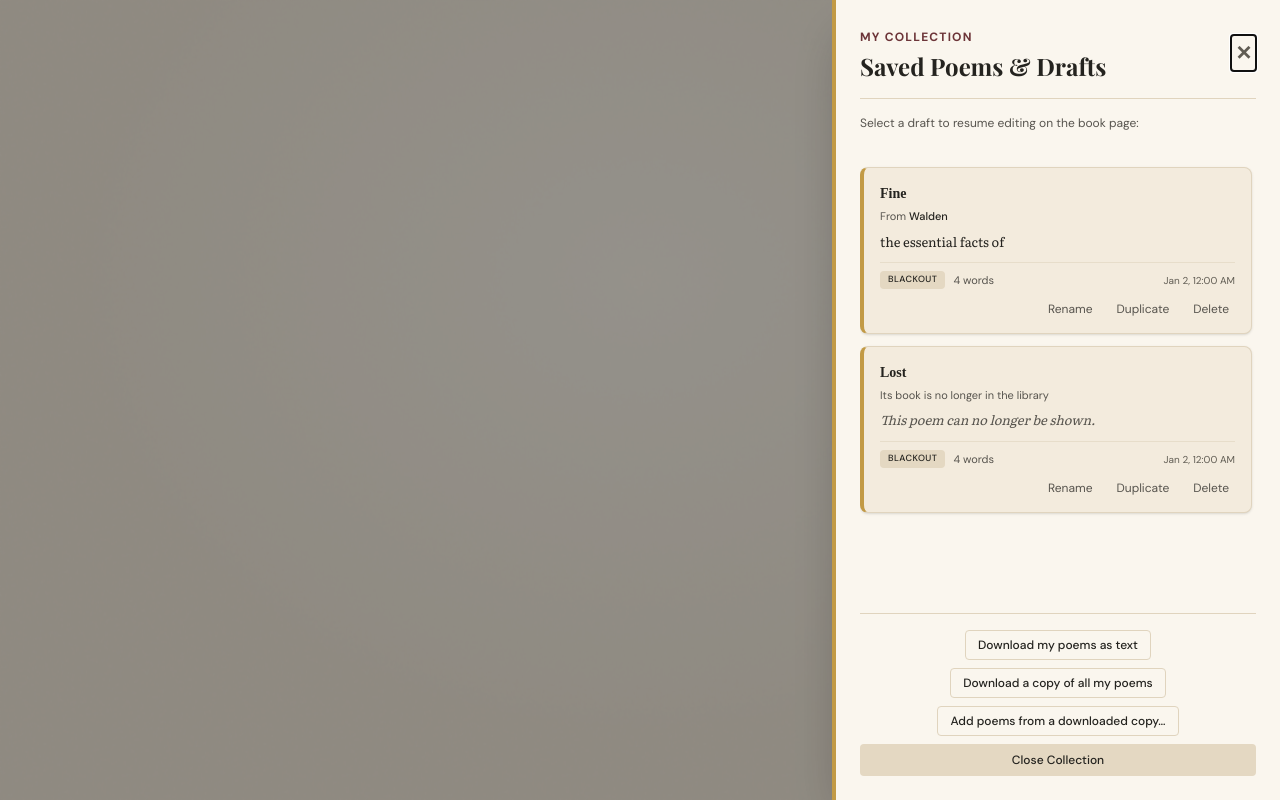
Test: downloading as text from My Collection › says which poems could not be included, when their text cannot be opened
Click the button "Download my poems as text".
click(1058, 645)  # box [965,630,1151,660]
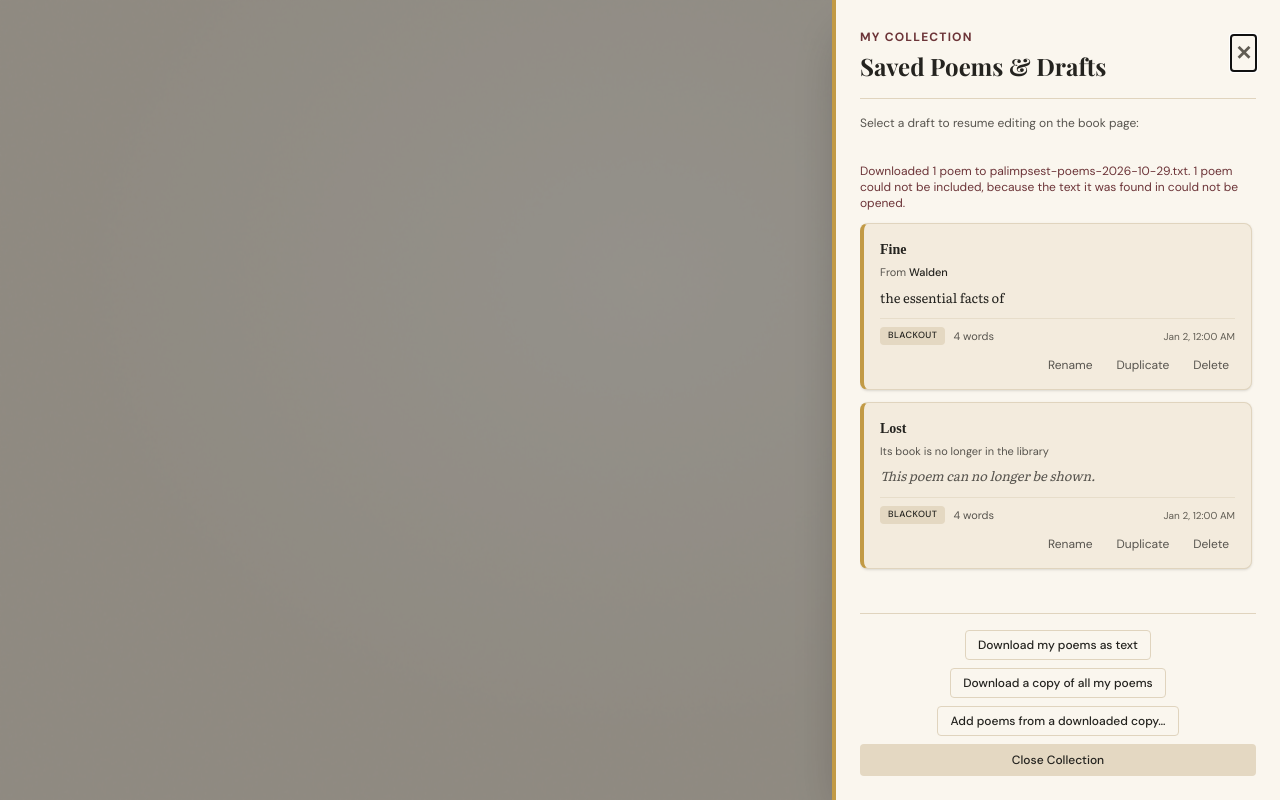
Now the 2nd message shows "1 poem could not be included", box [860,163,1238,211]
